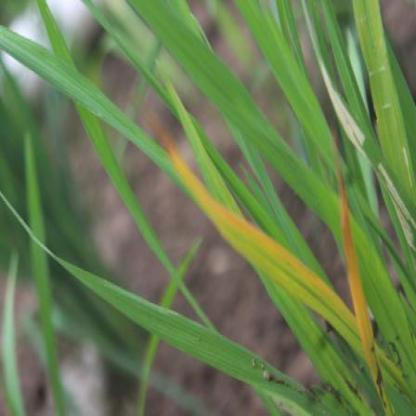Tungro: (156, 121, 374, 374), (336, 137, 404, 416)
